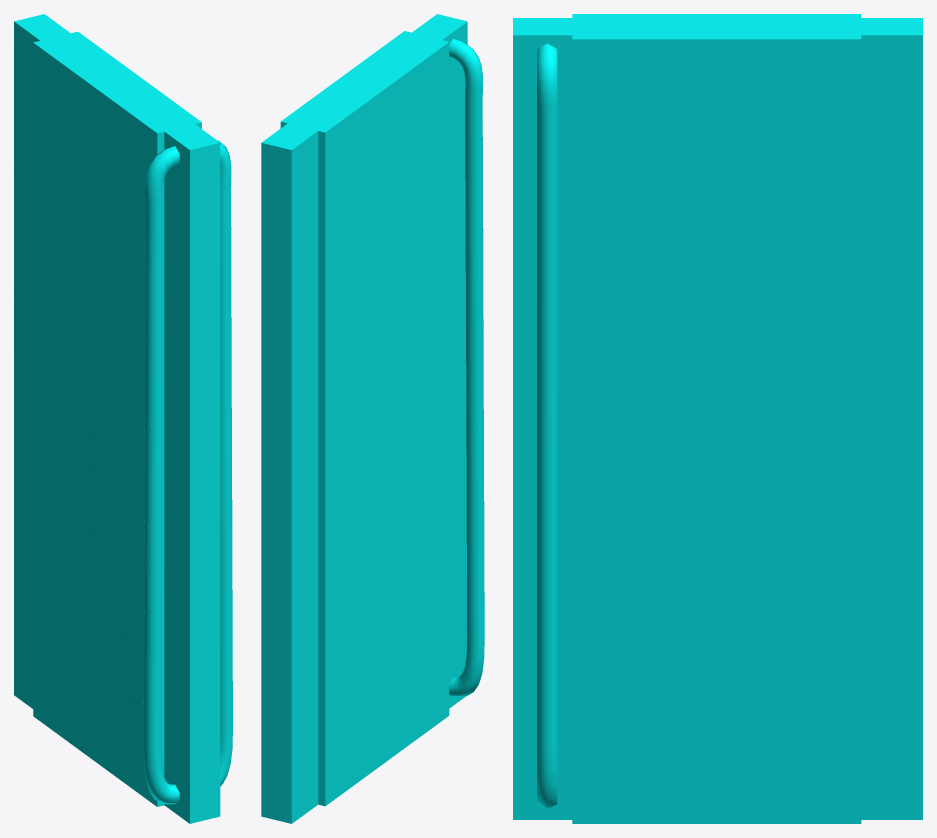
File: Door_Full.fbx
3 renders of one model, left to right at view 1: azimuth 30°, elevation 25°; view 2: azimuth 150°, elevation 25°; view 3: azimuth 270°, elevation 25°, orthographic. The views are drawn at different scales.
Parts seen in each view (by area): view 1: Door_Full; view 2: Door_Full; view 3: Door_Full.
Boxes of the visible parts, x1,y1,x2,y2 form: Door_Full: (14,14,232,823); Door_Full: (261,14,484,823); Door_Full: (513,14,922,823).
Size of what is drawn, in the model's own units: 26.35 by 190 by 89.9.
